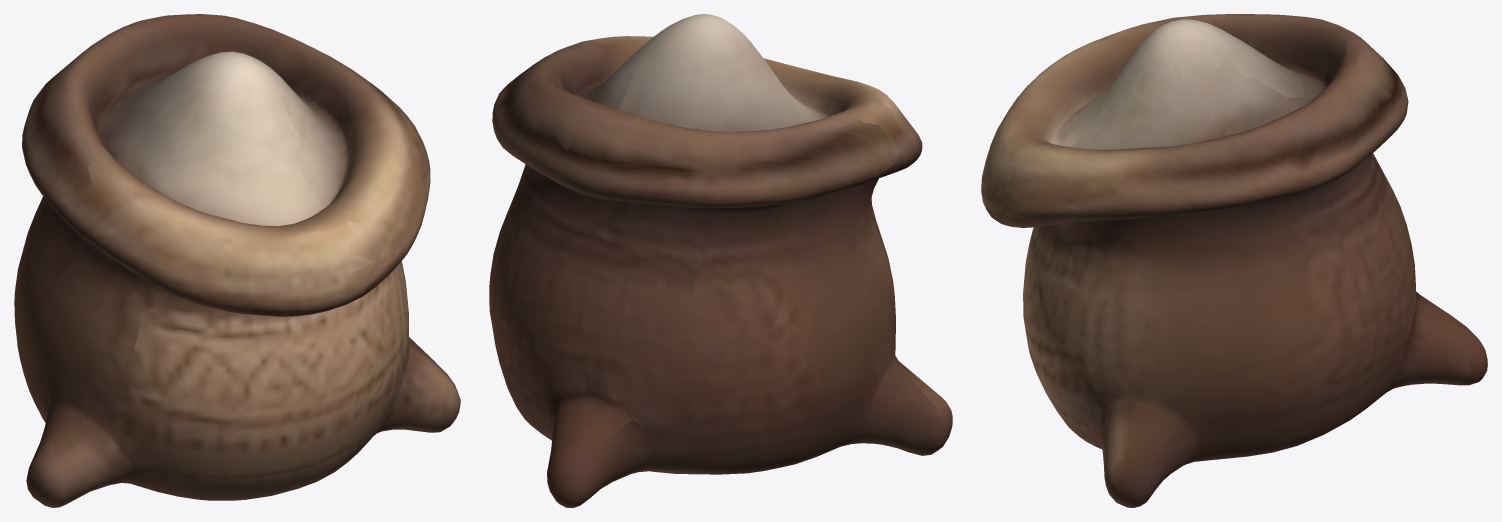
Rendered from v06_pilao_farinha.glb.
3 renders of one model, left to right at view 1: azimuth 30°, elevation 25°; view 2: azimuth 150°, elevation 25°; view 3: azimuth 270°, elevation 25°, orthographic. The views are drawn at different scales.
Visible parts, largest first — view 1: v06_pilao_farinha; view 2: v06_pilao_farinha; view 3: v06_pilao_farinha.
Part boxes in pixels (x1,y1,x2,y2): v06_pilao_farinha: [14, 14, 460, 507]; v06_pilao_farinha: [489, 14, 952, 507]; v06_pilao_farinha: [981, 14, 1487, 507].
Size of the model in its own units: 0.4813 by 0.4474 by 0.5067.
Materials: 1 (1 with a texture image).
